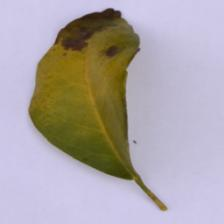black spot: (45, 0, 132, 64)
